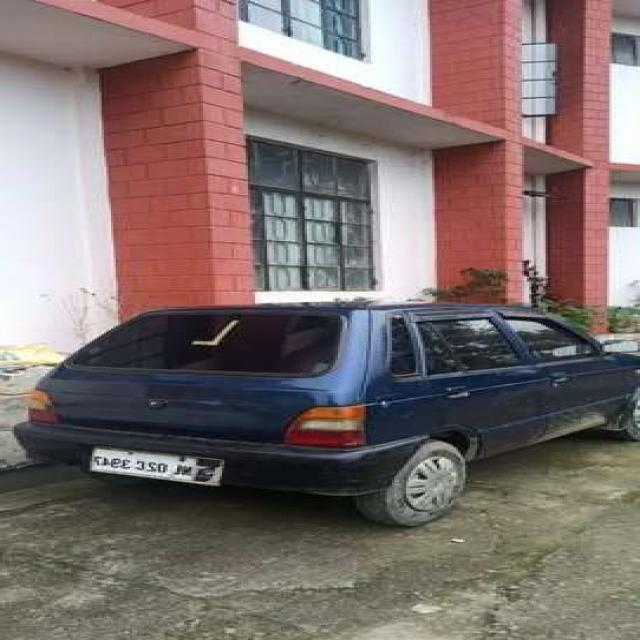license_plate: (88, 444, 228, 488)
